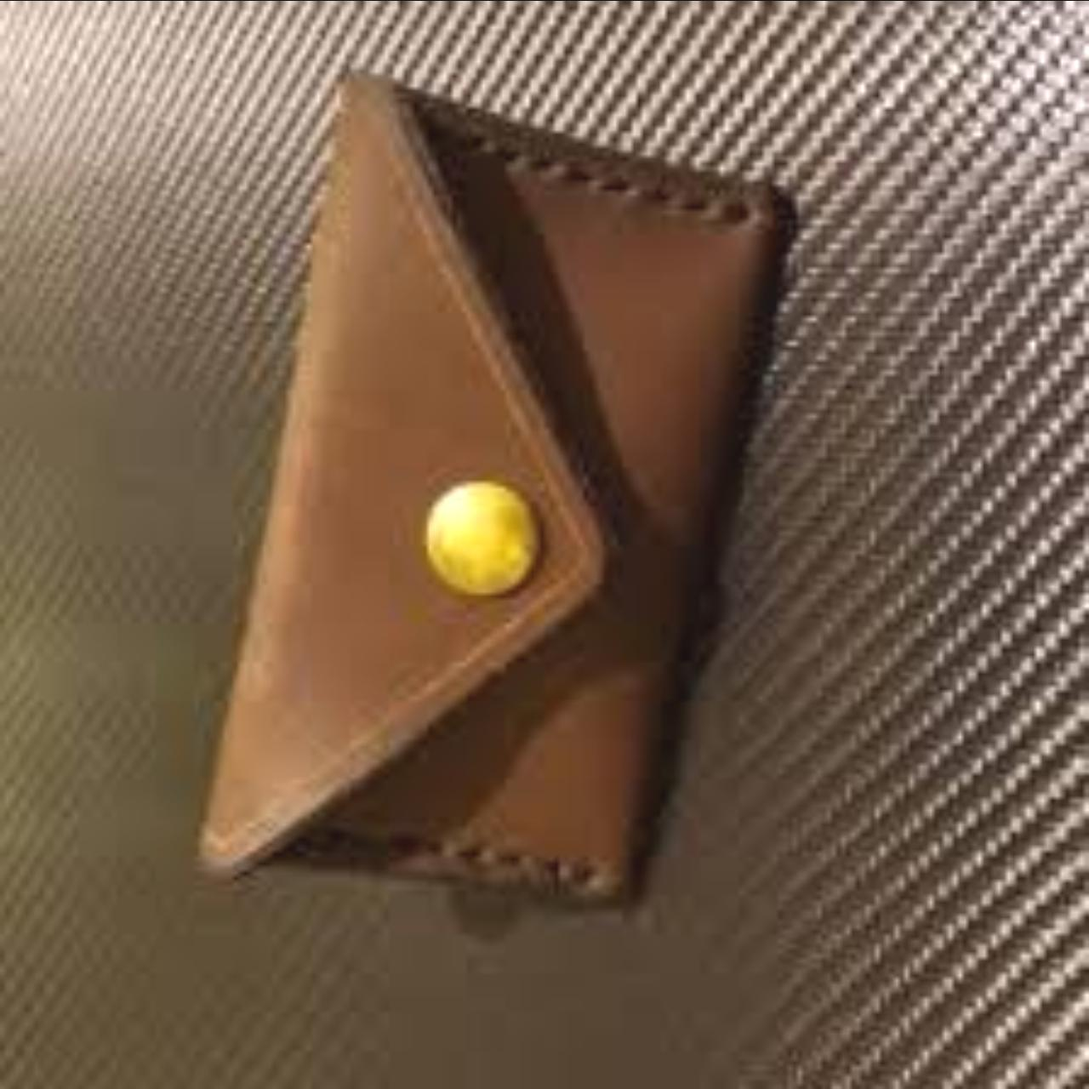wallet: (175, 59, 831, 899)
